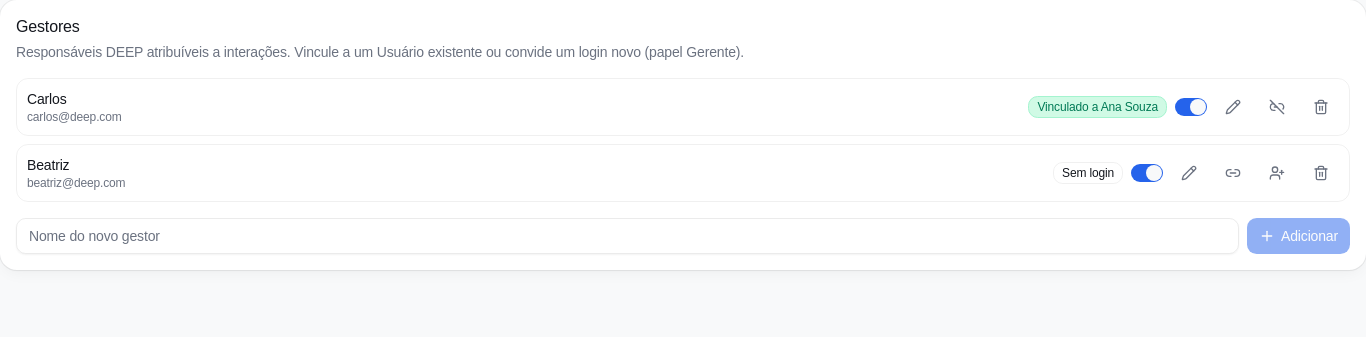
Scenario: ManagersSettings › não oferece um usuário já vinculado a outro gestor
Click the button named "Vincular Beatriz a usuário existente" at (1233, 173), box [1215,155,1251,191]
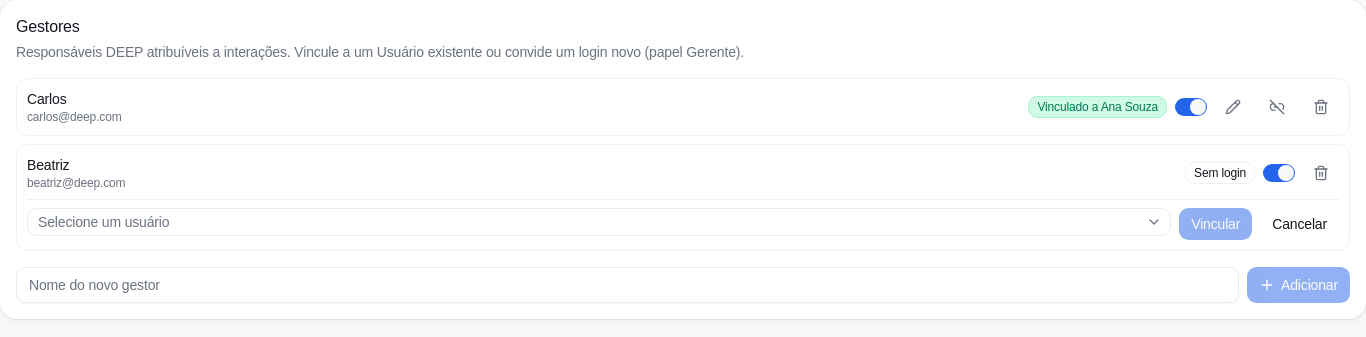
Click the dropdown named "Usuário para vincular a Beatriz" at (104, 222), box [27,208,1171,236]
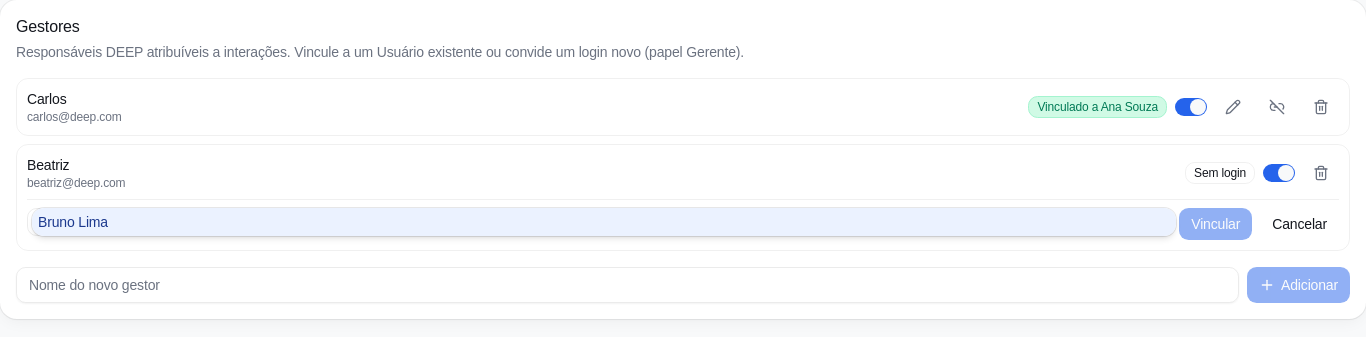
Check: the option "Bruno Lima" is shown, box [32,208,1176,236]
